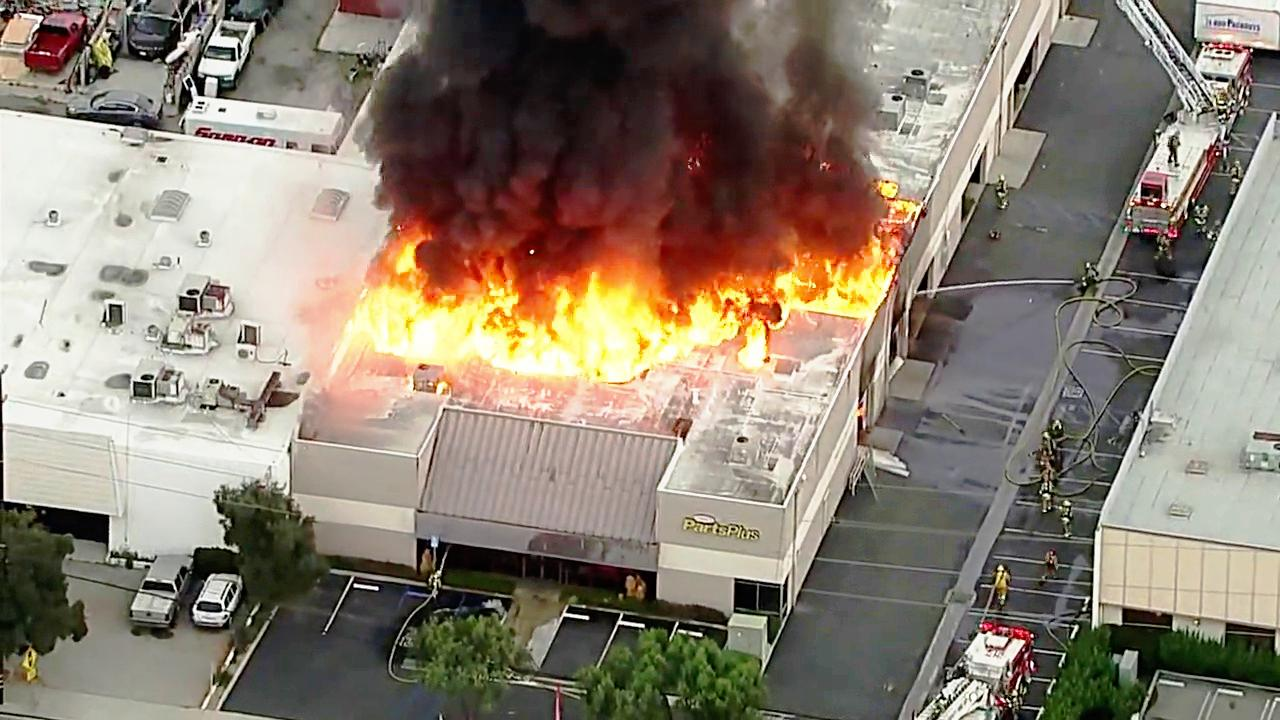fire: (654, 275, 790, 370), (769, 235, 904, 328), (346, 281, 498, 356), (501, 289, 644, 360)
smoke: (482, 0, 865, 225)
